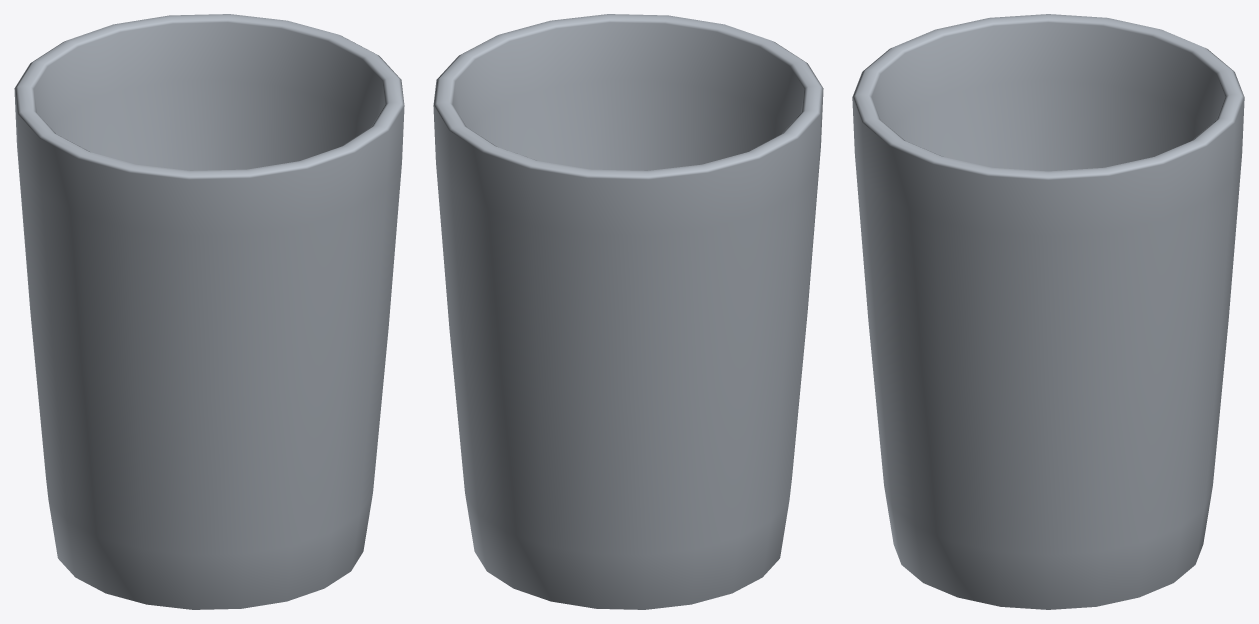
File: DinnerGlass_70s_v1.fbx
3 views of the same model, side by side, from view 1: azimuth 30°, elevation 25°; view 2: azimuth 150°, elevation 25°; view 3: azimuth 270°, elevation 25° (orthographic).
Parts seen in each view (by area): view 1: P_Glass_70s_1; view 2: P_Glass_70s_1; view 3: P_Glass_70s_1.
Part boxes in pixels (x1,y1,x2,y2): P_Glass_70s_1: (14,14,404,609); P_Glass_70s_1: (433,14,823,609); P_Glass_70s_1: (852,14,1244,609).
Size of the model in its own units: 0.6863 by 0.8811 by 0.6872.
